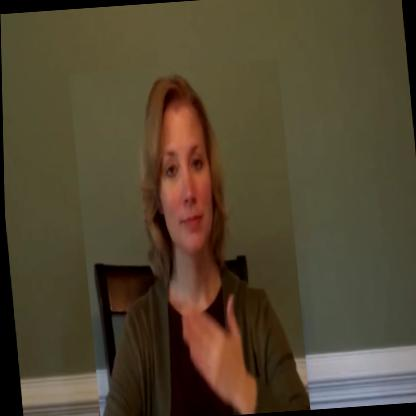ThankYou: (68, 58, 308, 416)
